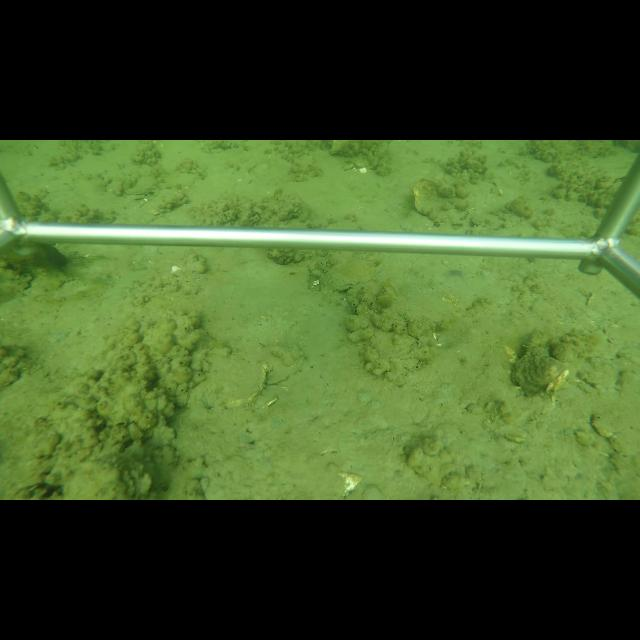Oyster-Closed: (197, 354, 270, 408), (412, 177, 472, 224), (320, 258, 378, 294)
